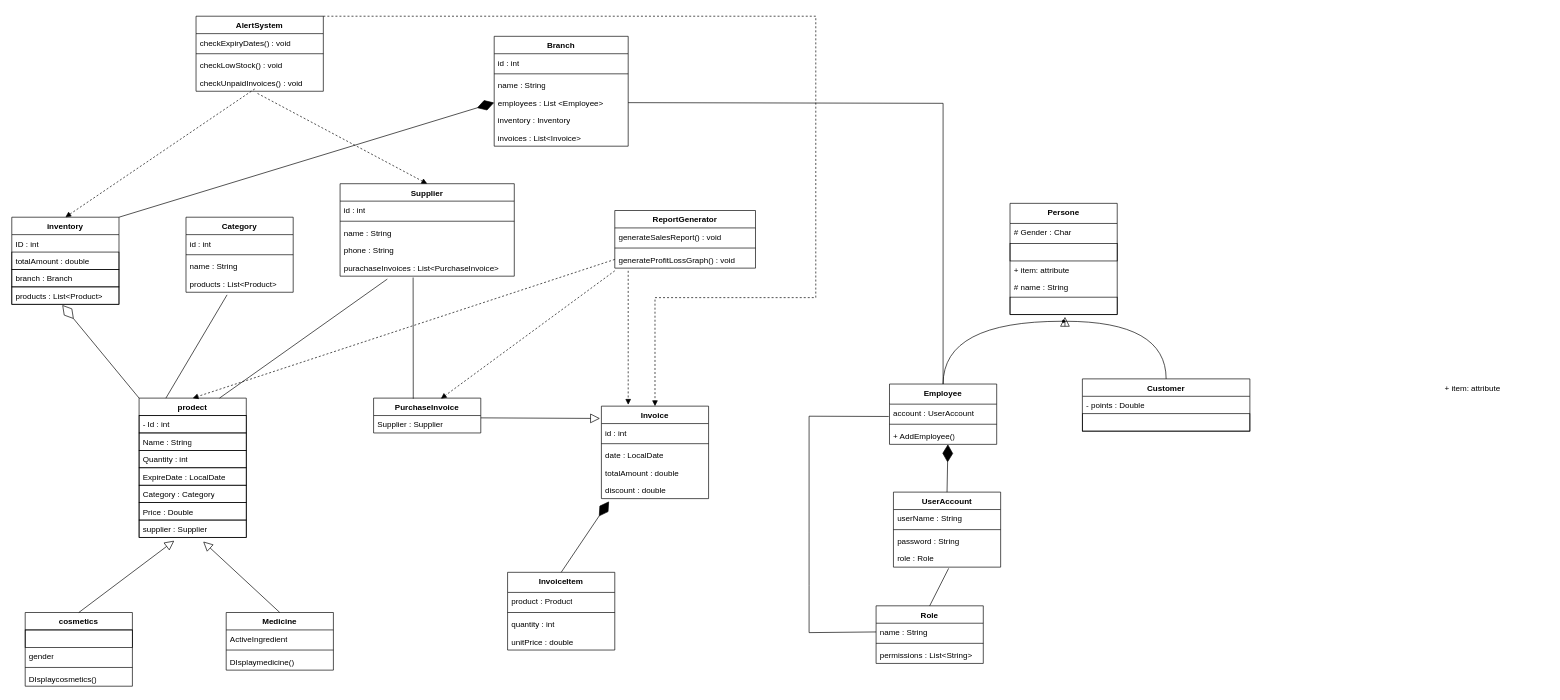
Image size: 1560x700. Some labels were removed from this diagram. The shapes that lost their labels are listed below. From the top down, each one's centre as x and y in pixels, then its label:
At (x=1063, y=252): "# Id: String".
At (x=1063, y=305): "# phone : String".
At (x=1166, y=422): "+ CalcPoints(Receipt): Double".
At (x=78, y=638): "Brand".
